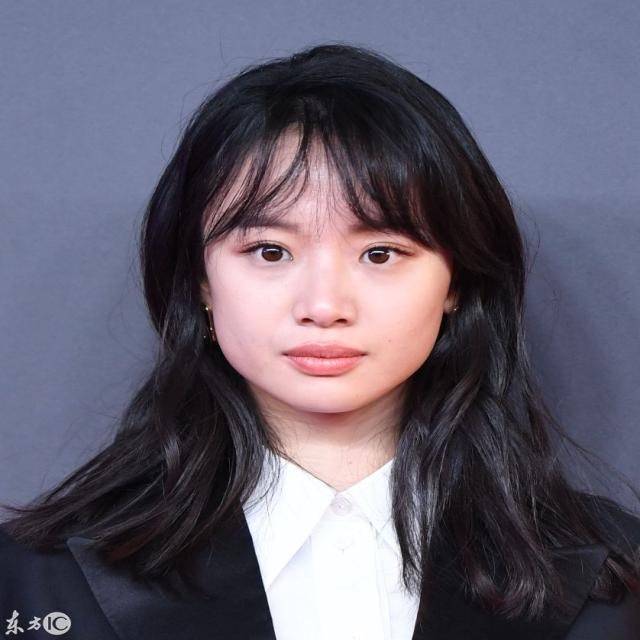Open: (237, 239, 295, 265), (356, 241, 413, 267)
